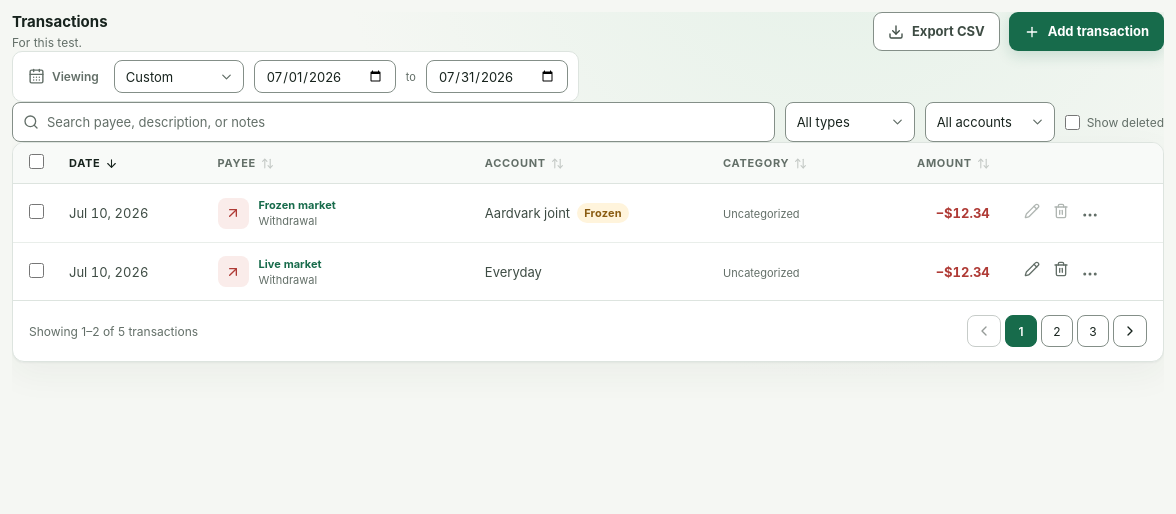
entries on a frozen account, in the transaction list › keeps them disabled when Select all matching takes in a frozen row on screen
Expected: the button named "Edit " is enabled, [1018,255,1047,284]
Click the checkbox named "Select transaction Live market, Jul 10, 2026, Everyday, 4444" at (36,270), box [28,263,44,278]
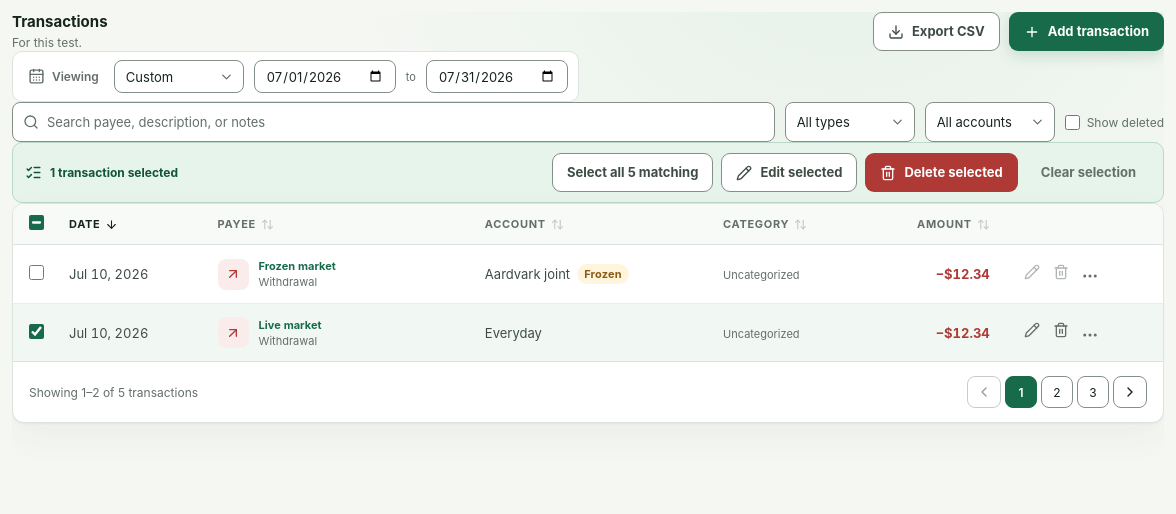
Result: the button "Delete selected" is enabled at [865,153,1018,192]
Result: the button "Edit selected" is enabled at [721,153,857,192]
Click the button "Select all 5 matching" at (633,173), box [552,153,714,192]
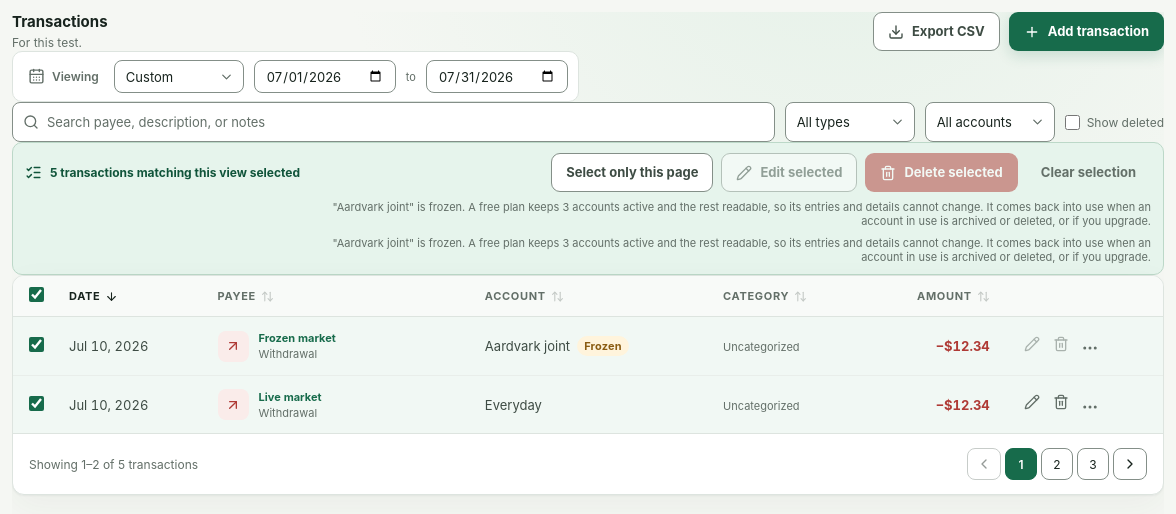
Result: the text "5 transactions matching this view selected" is shown at [50,165,300,180]
Result: the checkbox named "Select transaction Frozen market, Jul 10, 2026, Aardvark joi" is checked
Result: the button "Delete selected" is disabled at [865,153,1018,192]
// Excluding it is what the reason asks for, and it is enough.
Click the checkbox named "Select transaction Frozen market, Jul 10, 2026, Aardvark joi" at (36,345), box [28,337,44,352]
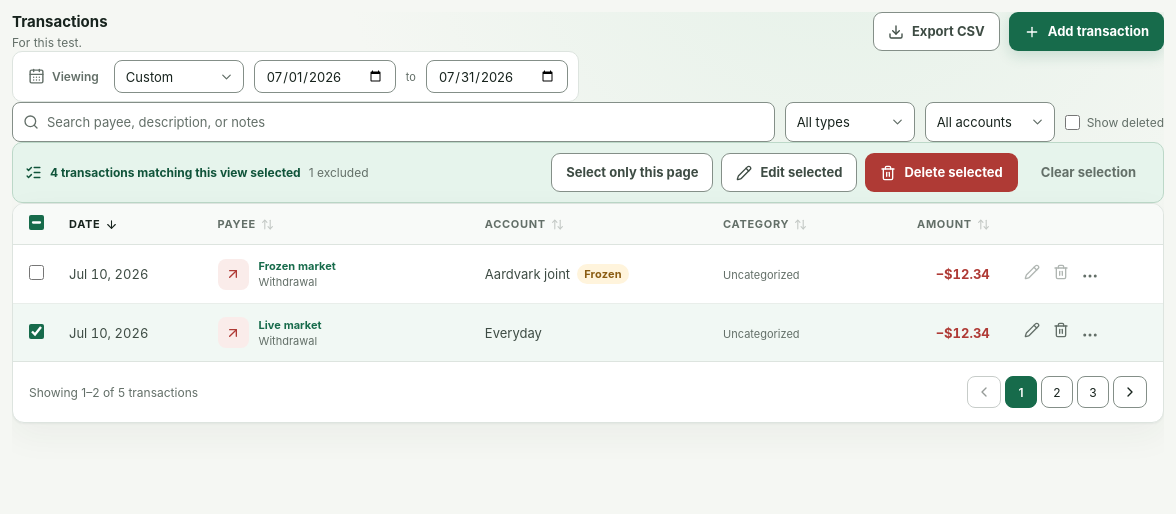
Result: the text "4 transactions matching this view selected" is shown at [50,165,301,180]
Result: the button "Delete selected" is enabled at [865,153,1018,192]
Result: the button "Edit selected" is enabled at [721,153,857,192]
